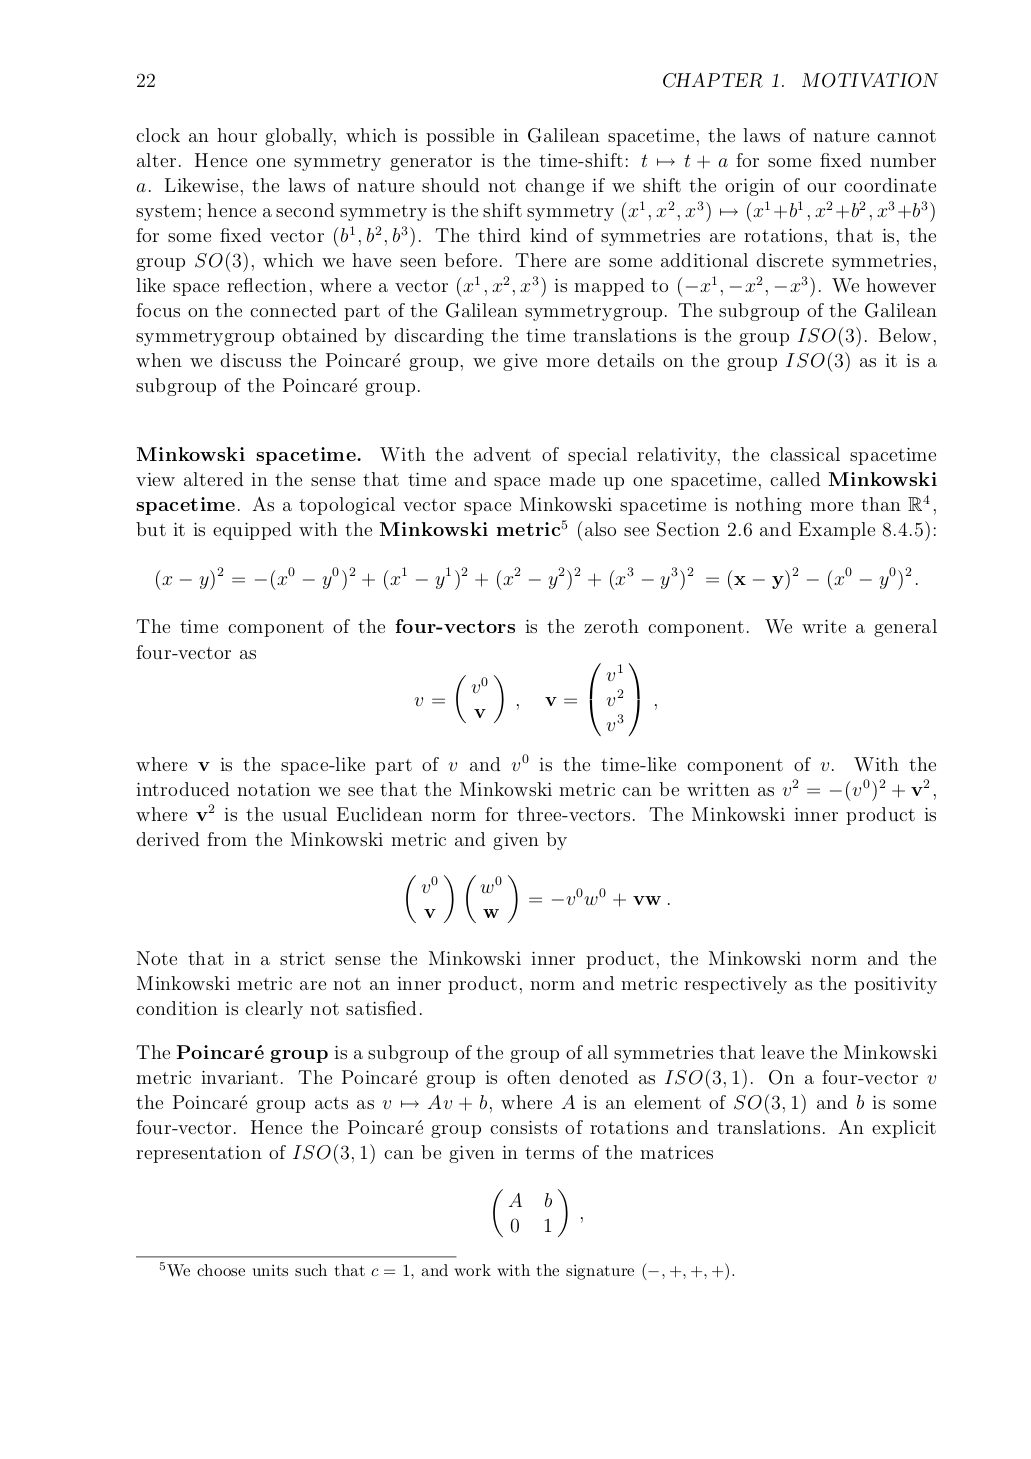formula: (156, 566, 917, 590), (414, 661, 656, 737), (406, 875, 669, 924), (493, 1188, 582, 1238)
